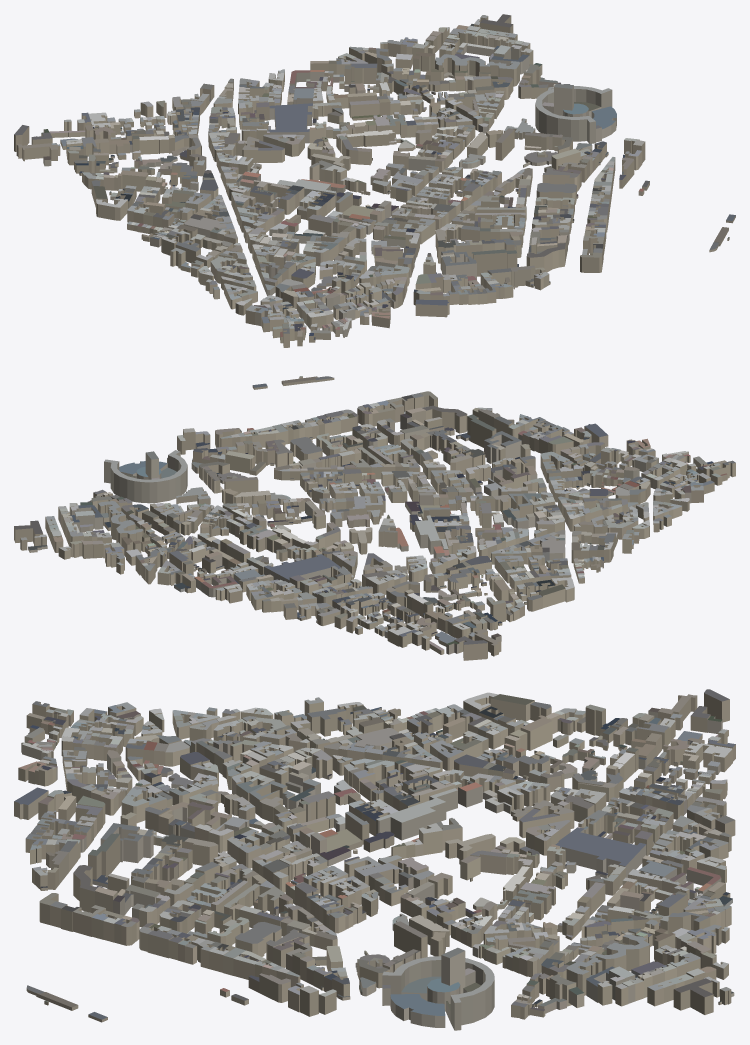
3 views of the same model, one above another, from view 1: azimuth 30°, elevation 25°; view 2: azimuth 150°, elevation 25°; view 3: azimuth 270°, elevation 25° (orthographic). The views are drawn at different scales.
Visible parts, largest first — view 1: tuile; view 2: tuile; view 3: tuile.
Boxes of the visible parts, left/top/right/bottom form: tuile: left=14, top=14, right=735, bottom=347; tuile: left=14, top=376, right=735, bottom=660; tuile: left=14, top=689, right=735, bottom=1030.
Size of the model in its own units: 1061 by 79.77 by 1037.
